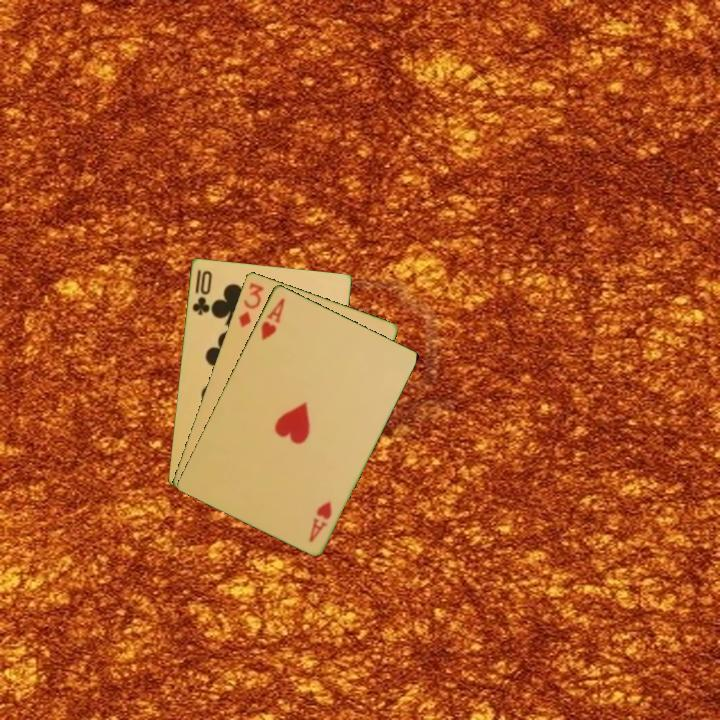10c: (188, 266, 215, 318)
3d: (234, 279, 266, 330)
Ah: (257, 294, 288, 343), (305, 497, 334, 545)
